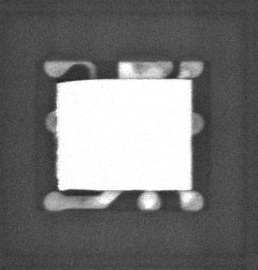DIE_BROKEN: (56, 78, 100, 84)
